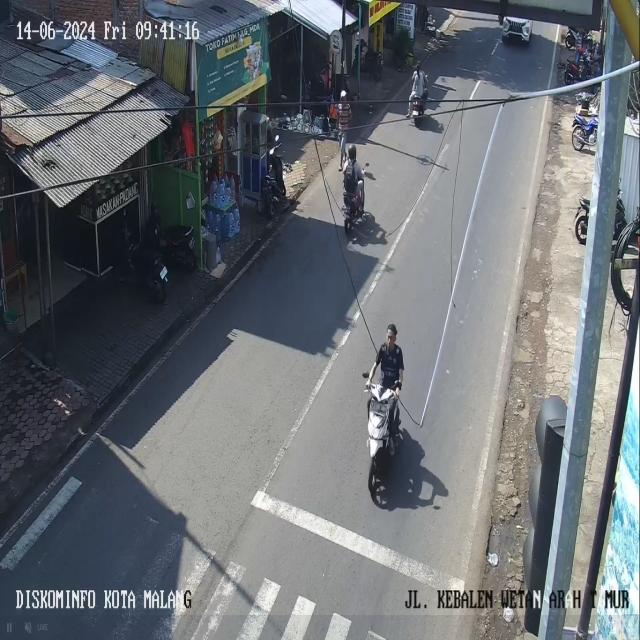Helmet: (348, 144, 357, 160), (415, 62, 420, 71)
